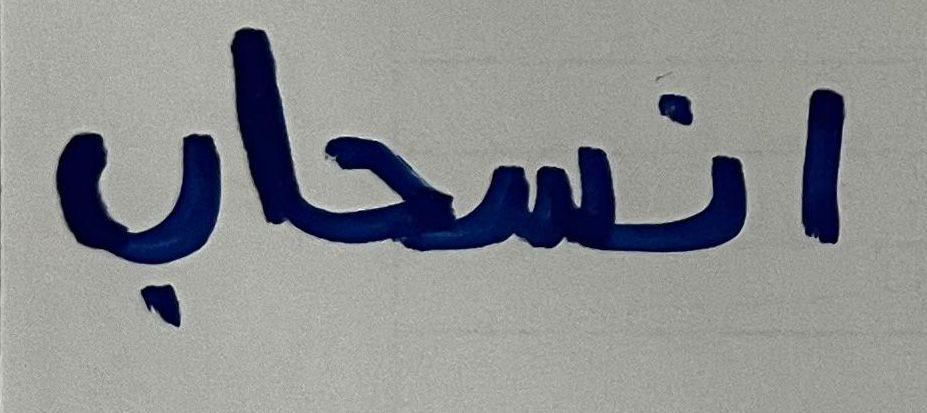alef: (762, 21, 905, 309), (228, 2, 302, 245)
beh: (25, 53, 223, 336)
hah: (307, 44, 456, 348)
noon: (625, 50, 757, 343)
seen: (462, 73, 620, 330)
